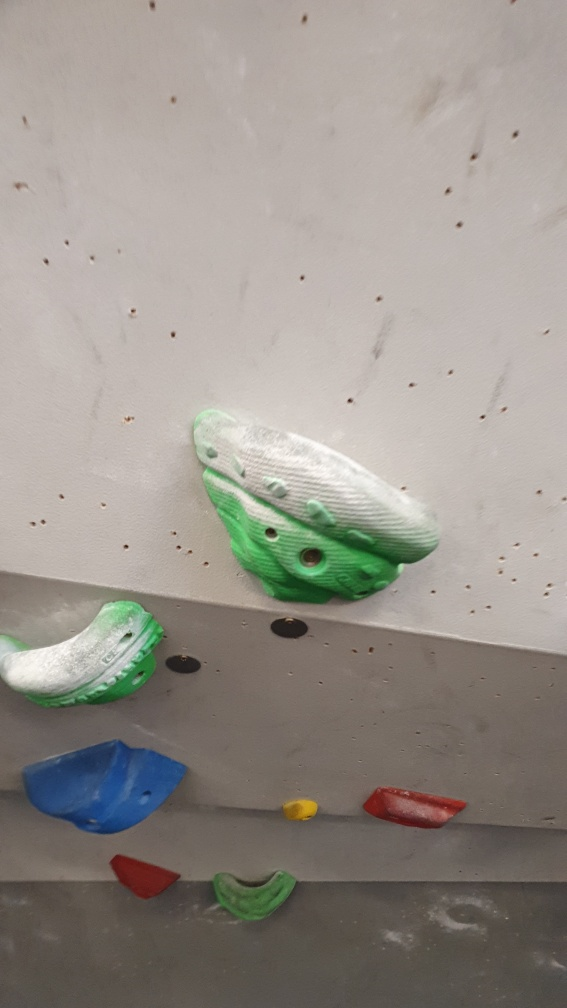Crimp: (362, 780, 471, 840)
Hand Start: (264, 612, 315, 648), (164, 649, 211, 680)
Jug: (179, 401, 444, 616), (1, 597, 167, 711), (211, 868, 298, 926)
Pinch: (18, 731, 195, 839)
